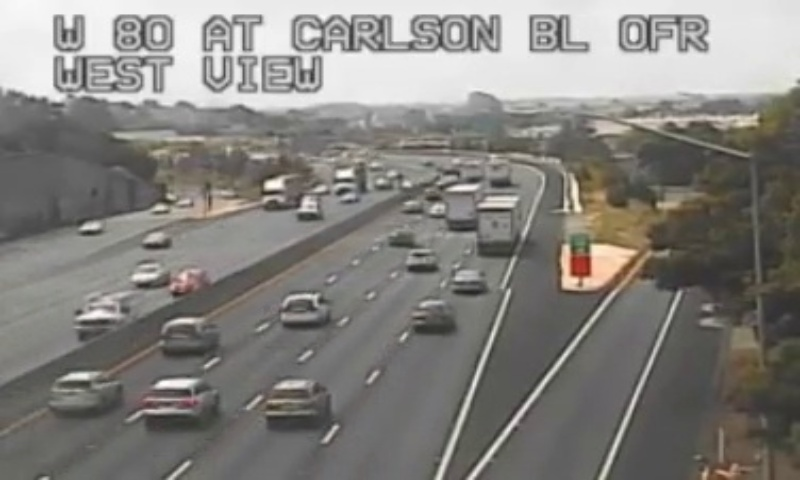car: (48, 371, 123, 413), (142, 377, 214, 418), (263, 378, 327, 422), (157, 317, 219, 351), (278, 292, 325, 323), (412, 299, 453, 332), (450, 268, 484, 294), (406, 249, 436, 270)
truck: (478, 194, 519, 256), (442, 184, 480, 227)
